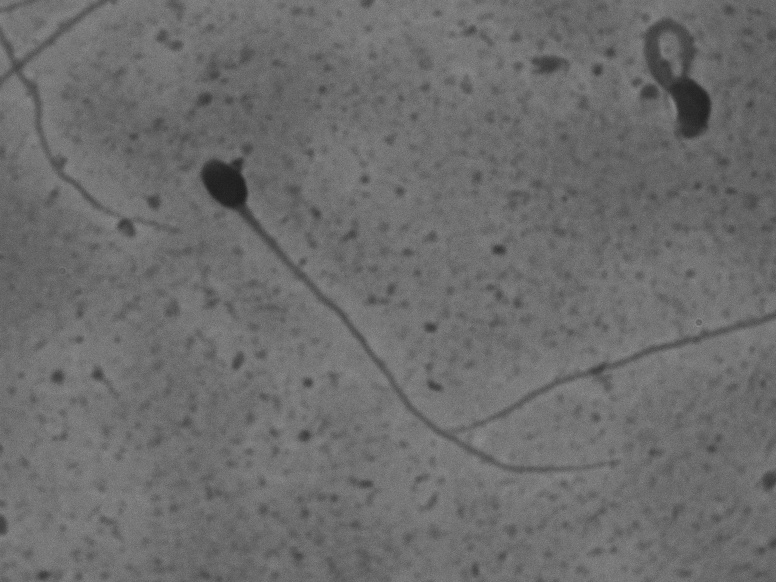Abnormal: (610, 12, 738, 160)
Normal: (168, 115, 650, 528)
